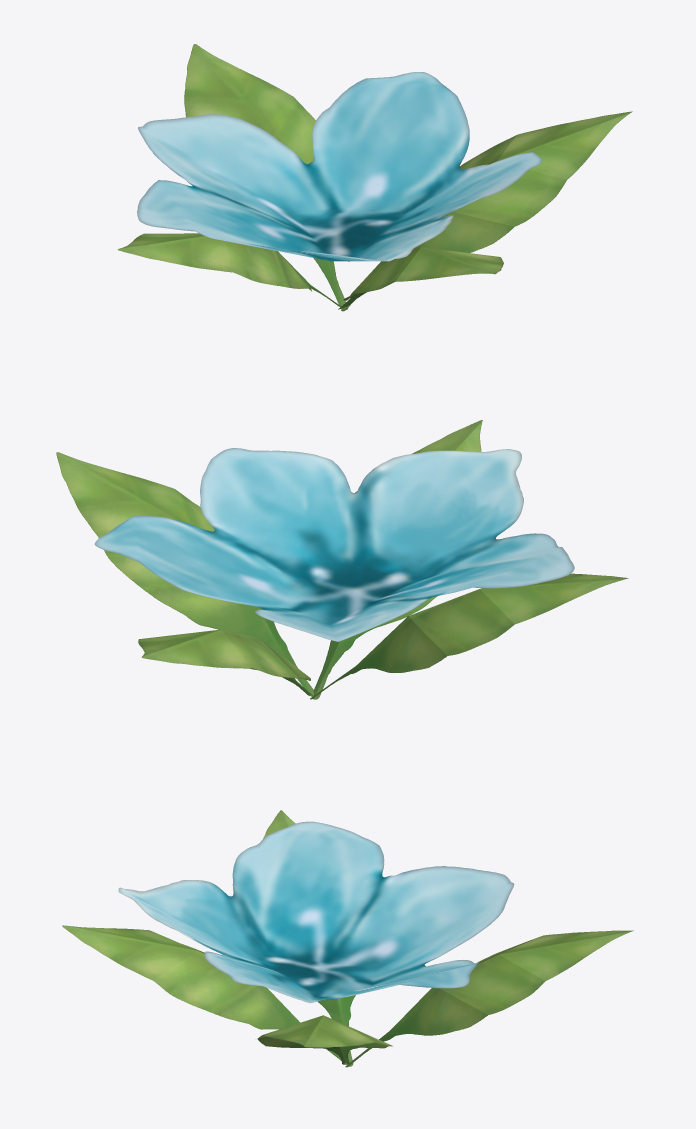
Rendered from bunga 4.fbx.
3 views of the same model, one above another, from view 1: azimuth 30°, elevation 25°; view 2: azimuth 150°, elevation 25°; view 3: azimuth 270°, elevation 25° (orthographic). The views are drawn at different scales.
Parts seen in each view (by area): view 1: bunga biru 3; view 2: bunga biru 3; view 3: bunga biru 3.
Part boxes in pixels (<box>): bunga biru 3: <box>118,44,632,311</box>; bunga biru 3: <box>56,420,628,699</box>; bunga biru 3: <box>62,810,633,1067</box>.
Bounding box in the file's own units: 234 × 70.49 × 238.
Materials: 1 (1 with a texture image).
